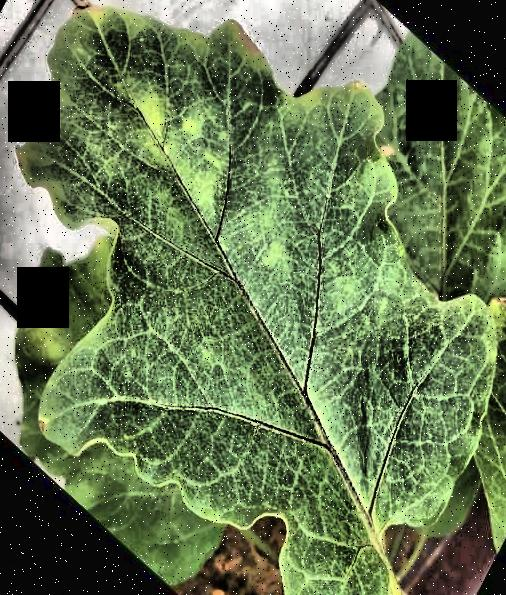Non-critical Stress: (0, 1, 506, 595)
